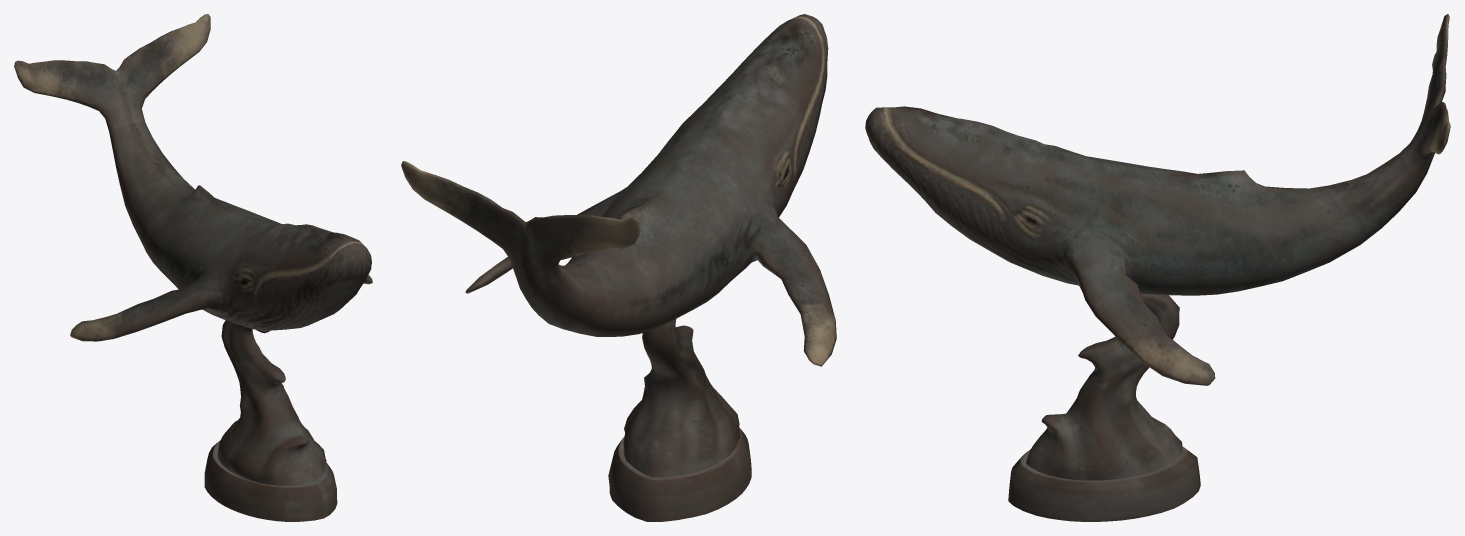
The model's file is bronze_whale_statue.glb.
The picture shows the model from 3 angles, left to right: view 1: azimuth 30°, elevation 25°; view 2: azimuth 150°, elevation 25°; view 3: azimuth 270°, elevation 25°; orthographic projection. The views are drawn at different scales.
Visible parts, largest first — view 1: bronze_whale_statue; view 2: bronze_whale_statue; view 3: bronze_whale_statue.
Boxes of the visible parts, bbox=[...] form: bronze_whale_statue: bbox=[14, 14, 372, 521]; bronze_whale_statue: bbox=[401, 14, 836, 521]; bronze_whale_statue: bbox=[865, 14, 1450, 521].
Size of the model in its own units: 0.932 by 1.07 by 1.37.
1 material, 1 textured.
